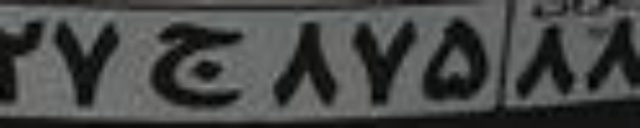2: (0, 18, 46, 103)
5: (424, 18, 489, 101)
7: (52, 19, 123, 106), (351, 20, 418, 104)
8: (265, 21, 340, 108), (510, 25, 577, 97), (583, 18, 639, 93)
jim: (151, 20, 240, 107)
